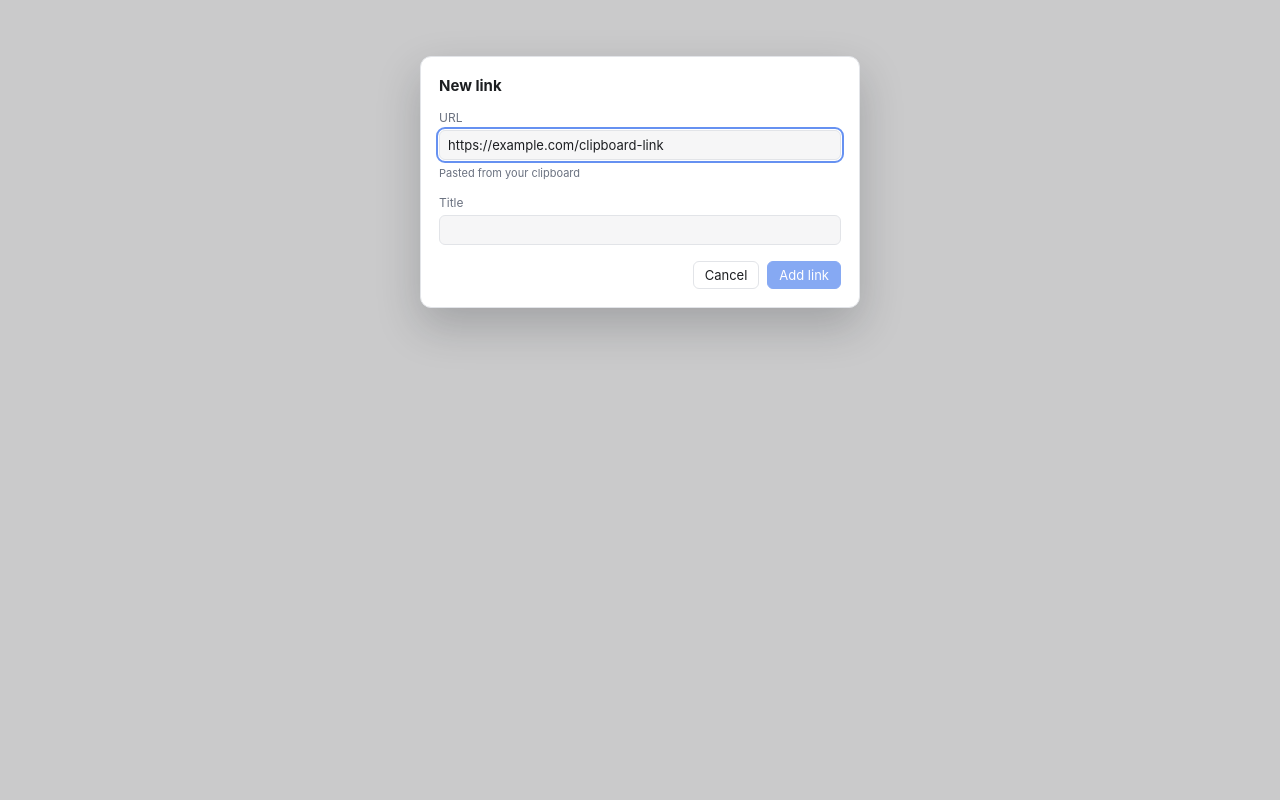
Test case: marks a clipboard-prefilled URL as such, and clears the mark once the user edits it
Check: the text "Pasted from your clipboard" is shown, box [439,166,580,180]
Replace the text in the field labelled "URL" with "https://example.com/typed-instead" at (640, 145), box [439,130,841,160]
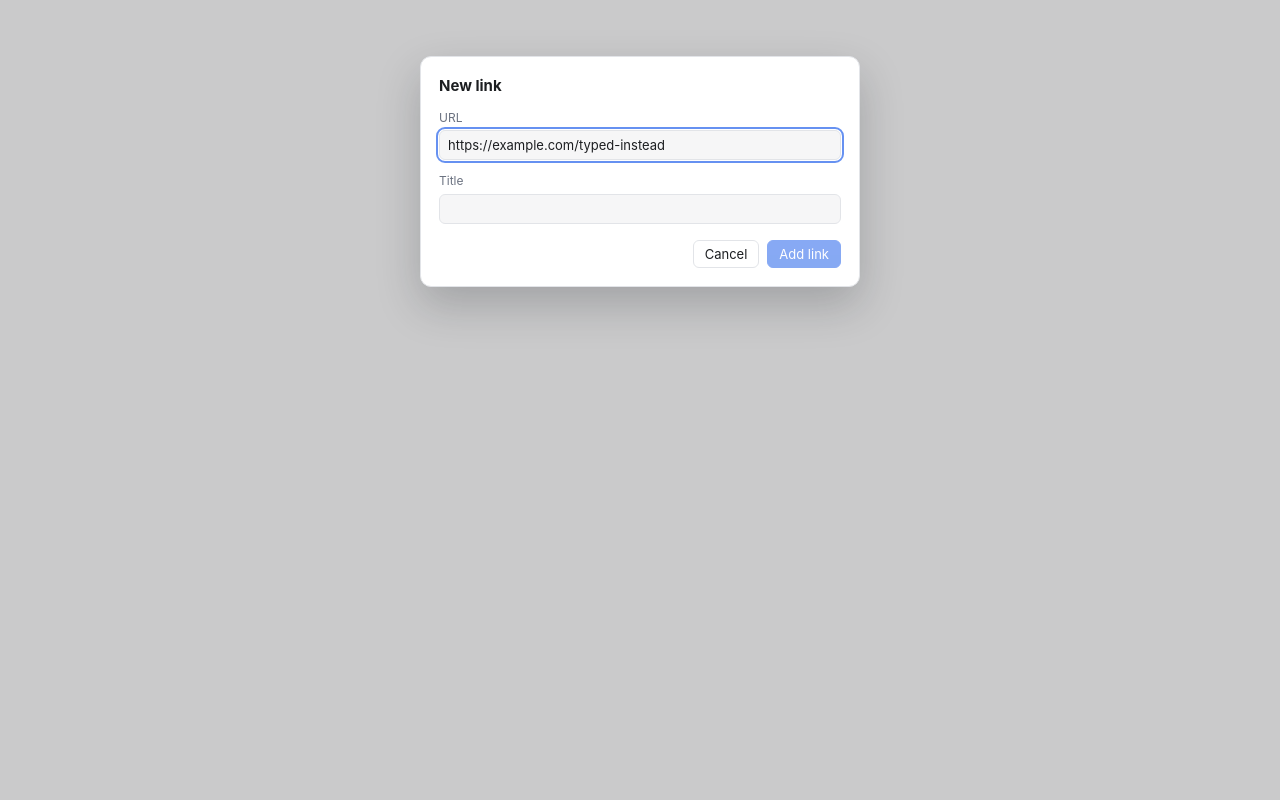
Check: the text "Pasted from your clipboard" is gone
